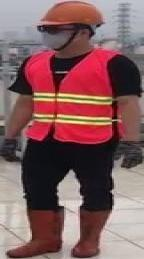gloves: (115, 142, 144, 169), (0, 138, 20, 162)
hard-hat: (35, 0, 105, 31)
vest: (5, 45, 119, 139)
